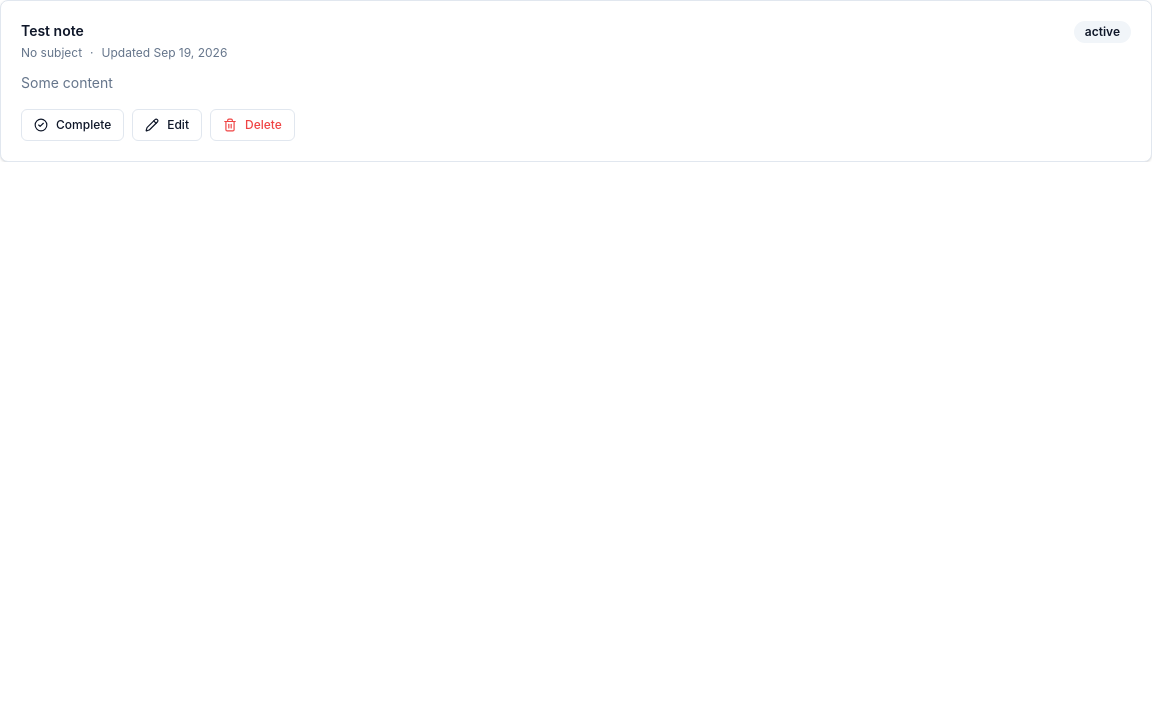
Test case: NoteCard interactions › opens delete confirmation dialog when clicking delete
The image size is (1152, 720).
Click the button "Delete": (252, 125) top-left (210, 109), bottom-right (295, 141)
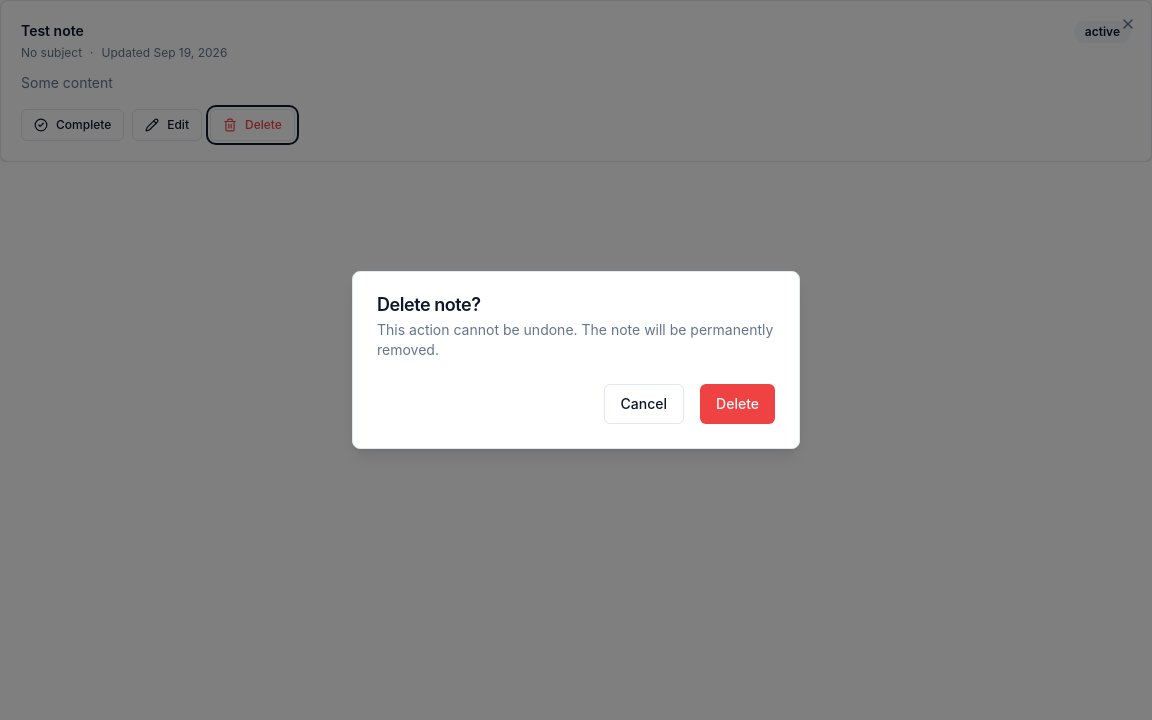
Expected: the heading "Delete note?" is shown, top-left (377, 294), bottom-right (480, 315)
Expected: the button with test id "confirm-delete" is shown, top-left (700, 384), bottom-right (775, 424)
